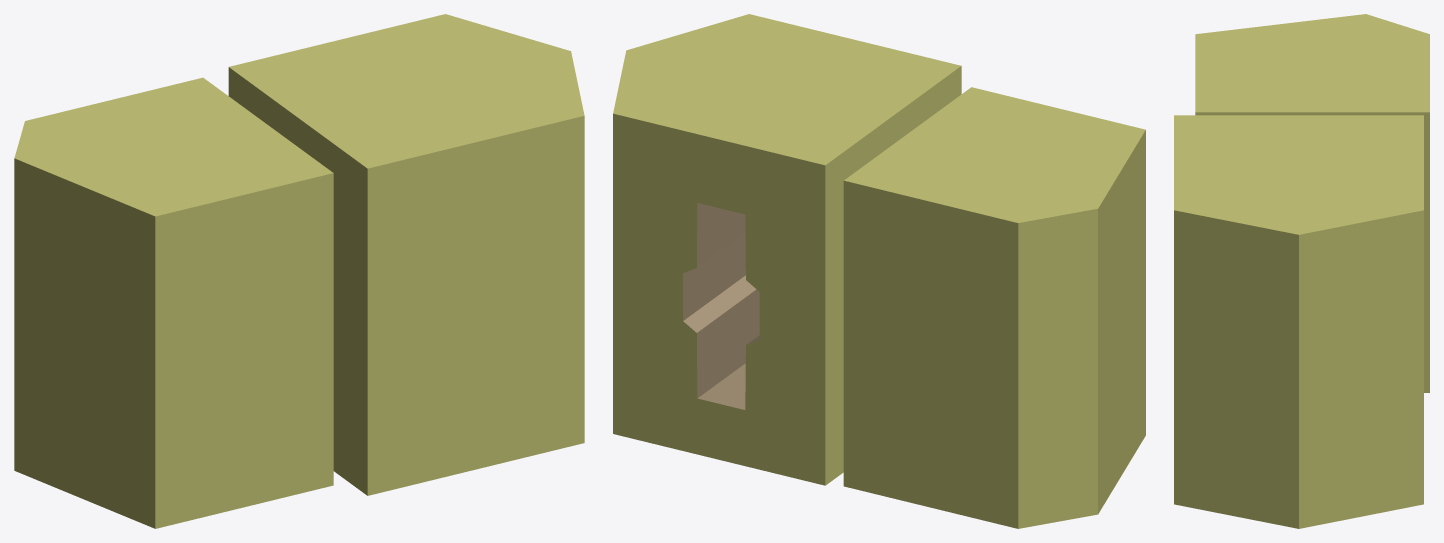
Rendered from LightGreyMetalMechSmallLockwKeyhole1.fbx.
3 renders of one model, left to right at view 1: azimuth 30°, elevation 25°; view 2: azimuth 150°, elevation 25°; view 3: azimuth 270°, elevation 25°, orthographic. The views are drawn at different scales.
Visible parts, largest first — view 1: DoorLatch1, KeyLock; view 2: DoorLatch1, KeyLock; view 3: KeyLock, DoorLatch1.
Part boxes in pixels (left/top/right/bottom): DoorLatch1: left=14, top=77, right=333, bottom=528; KeyLock: left=228, top=14, right=584, bottom=495; DoorLatch1: left=843, top=87, right=1145, bottom=528; KeyLock: left=613, top=14, right=961, bottom=485; KeyLock: left=1174, top=115, right=1423, bottom=528; DoorLatch1: left=1195, top=14, right=1429, bottom=392.
Bounding box in the file's own units: 136 × 81.76 × 64.46.
